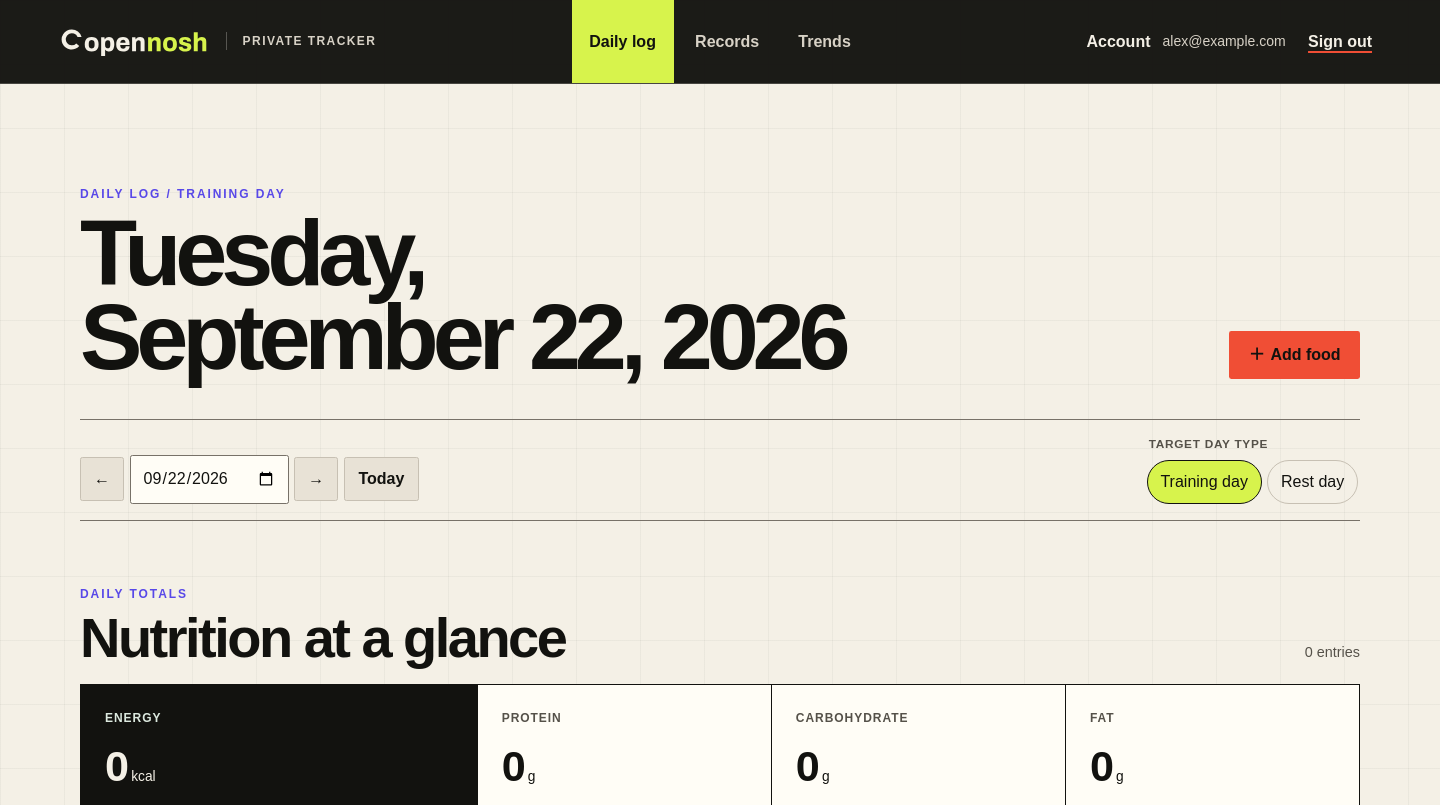
Test case: daily nutrition log › returns to sign in when food search reports an expired session
Expected: the heading "Nutrition at a glance" is shown, [80,611,565,664]
Click the button "＋ Add food" at (1295, 355), box [1229,331,1360,379]
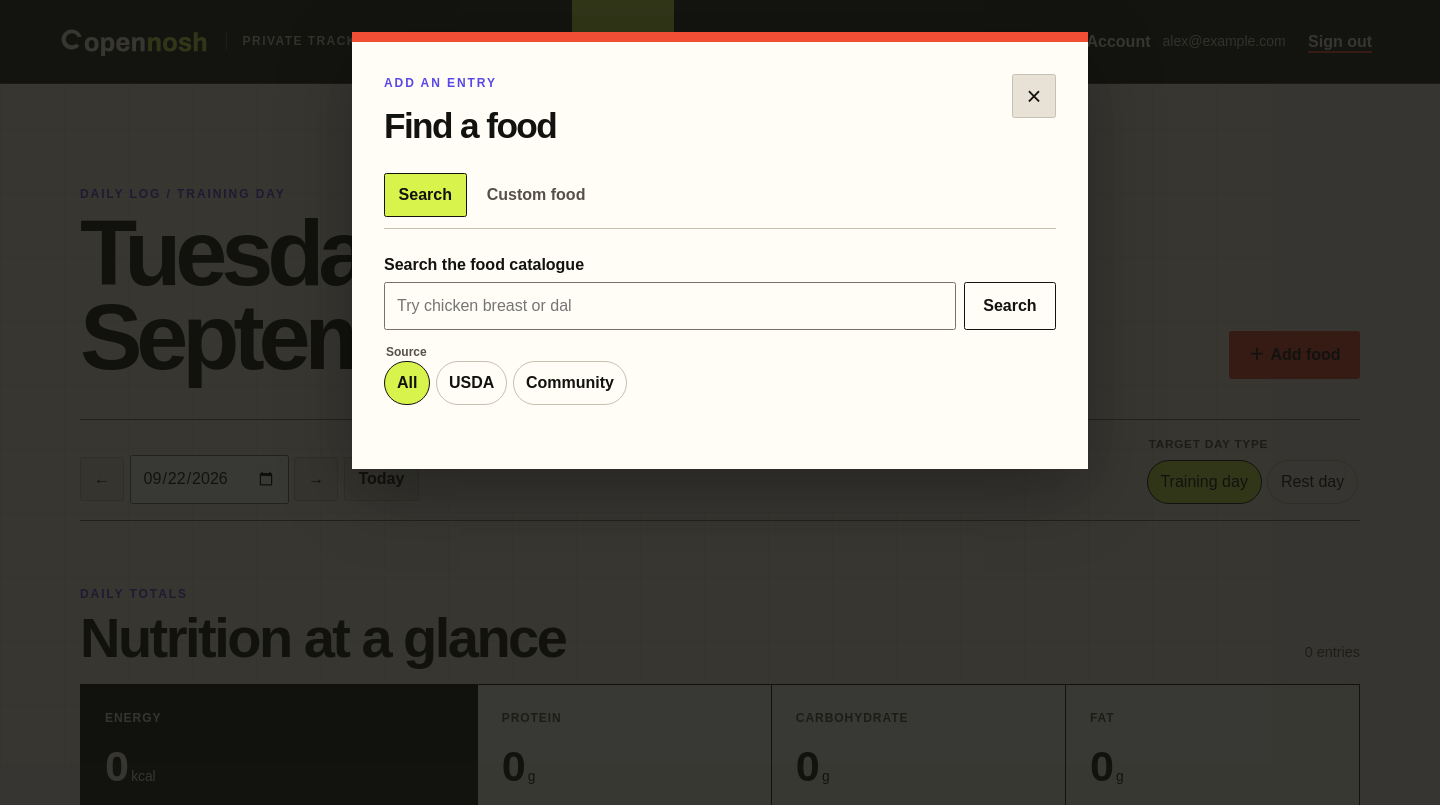
Type "chicken" into the search field labelled "Search the food catalogue" at (670, 306), box [384,282,956,330]
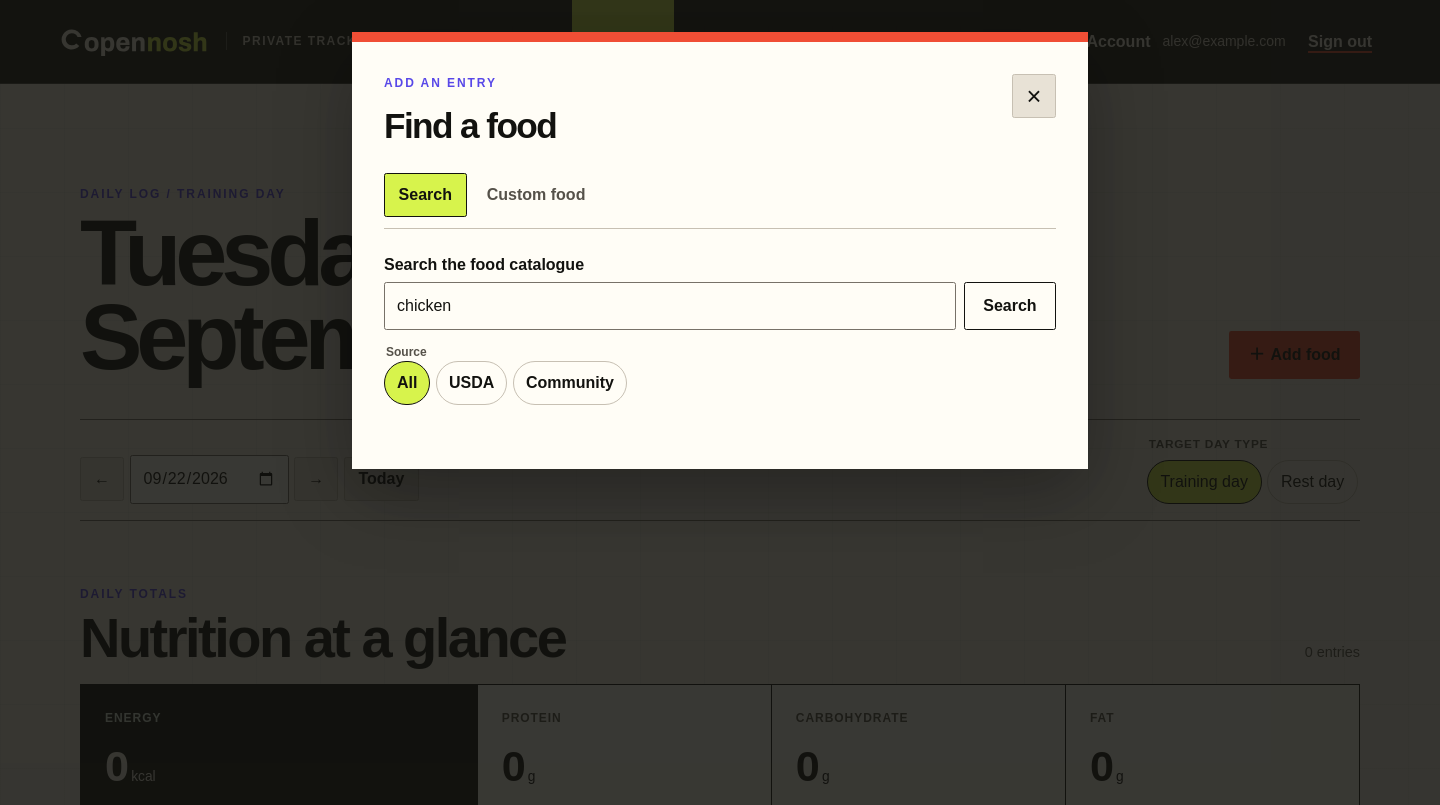
Click the button "Search" at (1010, 306), box [964,282,1056,330]
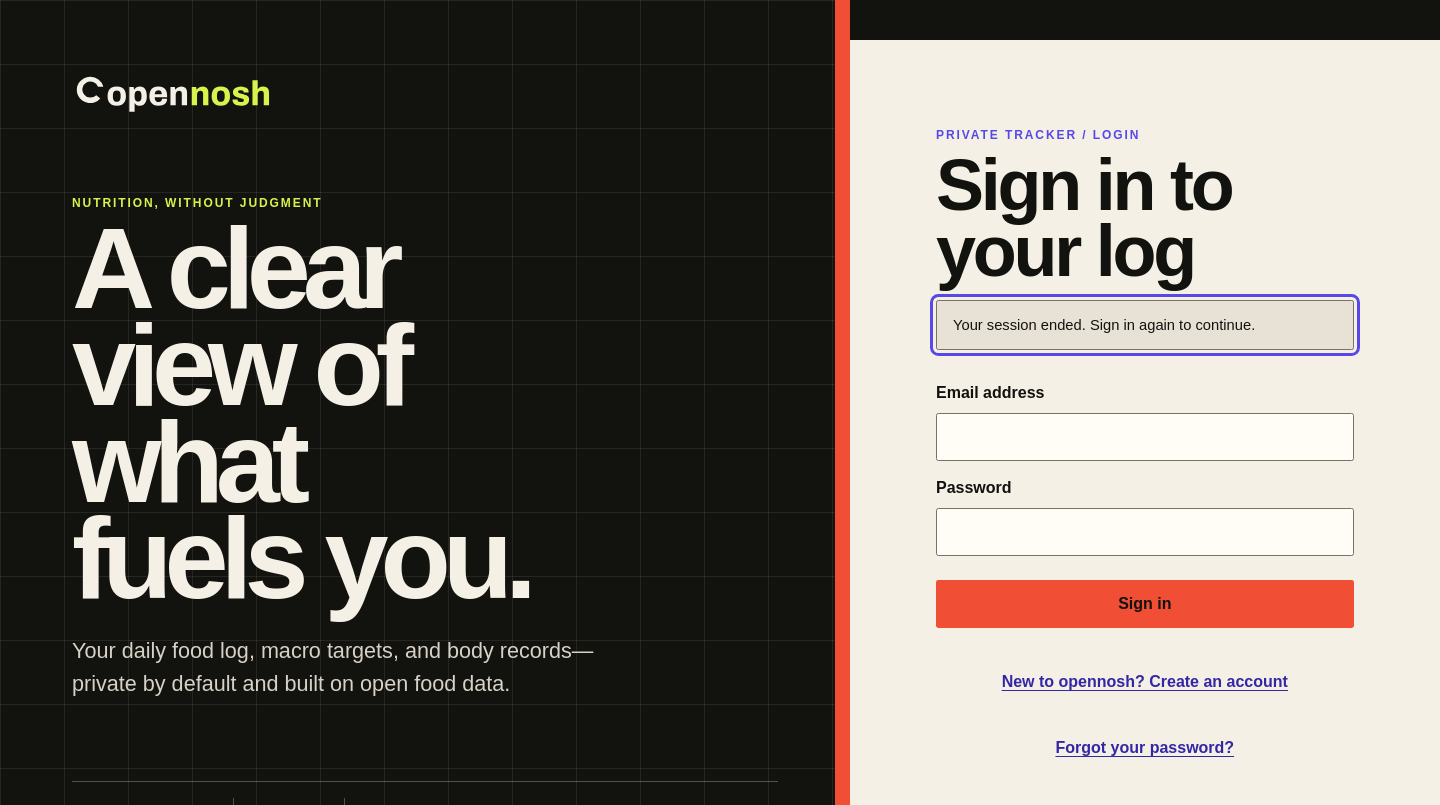
Expected: the heading "Sign in to your log" is shown, [936,145,1232,291]
